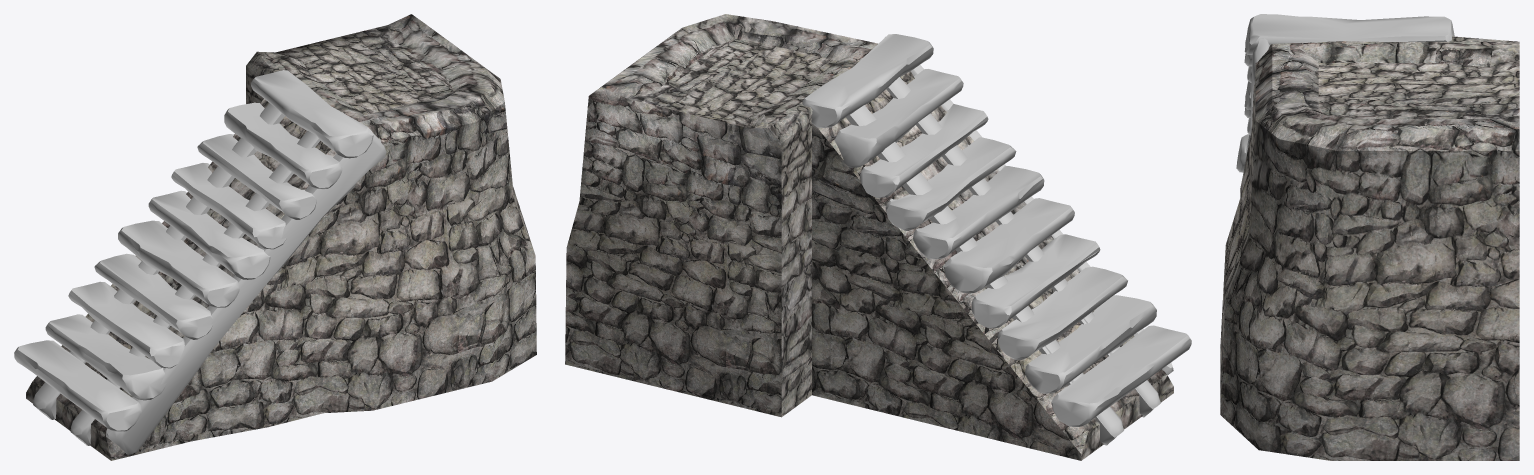
The model's file is StoneRamp_1.fbx.
3 views of the same model, side by side, from view 1: azimuth 30°, elevation 25°; view 2: azimuth 150°, elevation 25°; view 3: azimuth 270°, elevation 25° (orthographic). The views are drawn at different scales.
Parts seen in each view (by area): view 1: Stone, Wood; view 2: Stone, Wood; view 3: Stone, Wood.
Boxes of the visible parts, box(x1,y1,x2,y2) form: Stone: box(26, 14, 536, 460); Wood: box(14, 70, 386, 454); Stone: box(565, 14, 1173, 460); Wood: box(802, 34, 1191, 445); Stone: box(1220, 36, 1519, 460); Wood: box(1236, 14, 1454, 172).
Size of the model in its own units: 1015 by 574 by 484.
